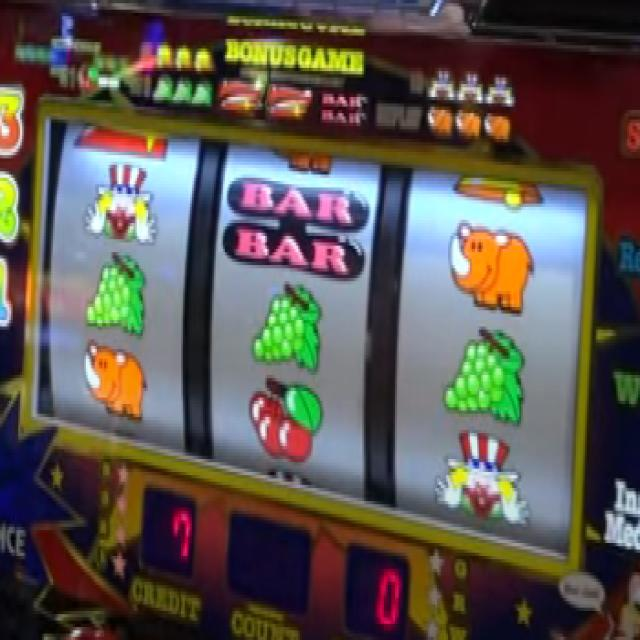bar: (227, 174, 364, 278), (319, 93, 367, 126)
bell: (451, 174, 544, 207), (153, 41, 174, 70), (192, 46, 214, 73), (175, 44, 193, 74)
cherry: (249, 378, 319, 462)
clown: (432, 429, 529, 528), (81, 164, 157, 246), (425, 70, 456, 104), (457, 71, 486, 104), (487, 76, 513, 106)
display: (36, 110, 573, 566)
elephant: (451, 222, 533, 308), (83, 339, 149, 418), (266, 145, 332, 171), (454, 107, 482, 141), (424, 104, 455, 134), (486, 114, 512, 144)
grape: (441, 324, 524, 424), (250, 283, 322, 370), (85, 252, 146, 337), (152, 75, 172, 102), (173, 78, 192, 104), (193, 84, 211, 103)
z: (74, 123, 169, 159), (267, 82, 309, 118), (220, 81, 264, 115)
